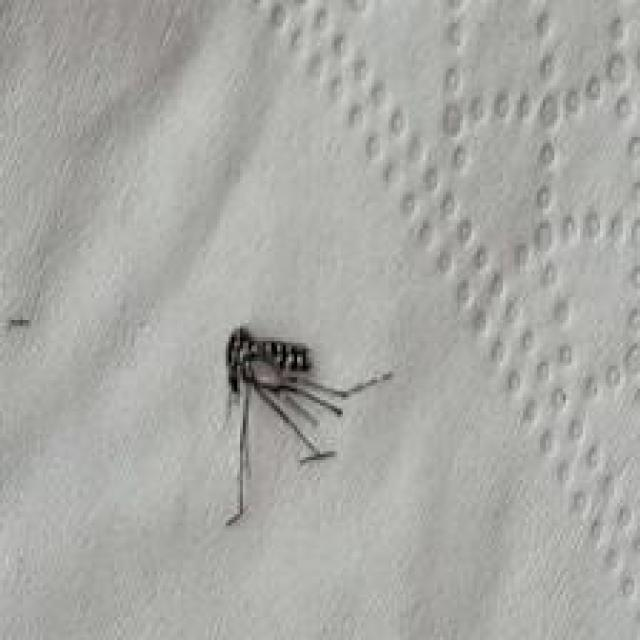Aedes albopictus: (220, 324, 394, 527)
